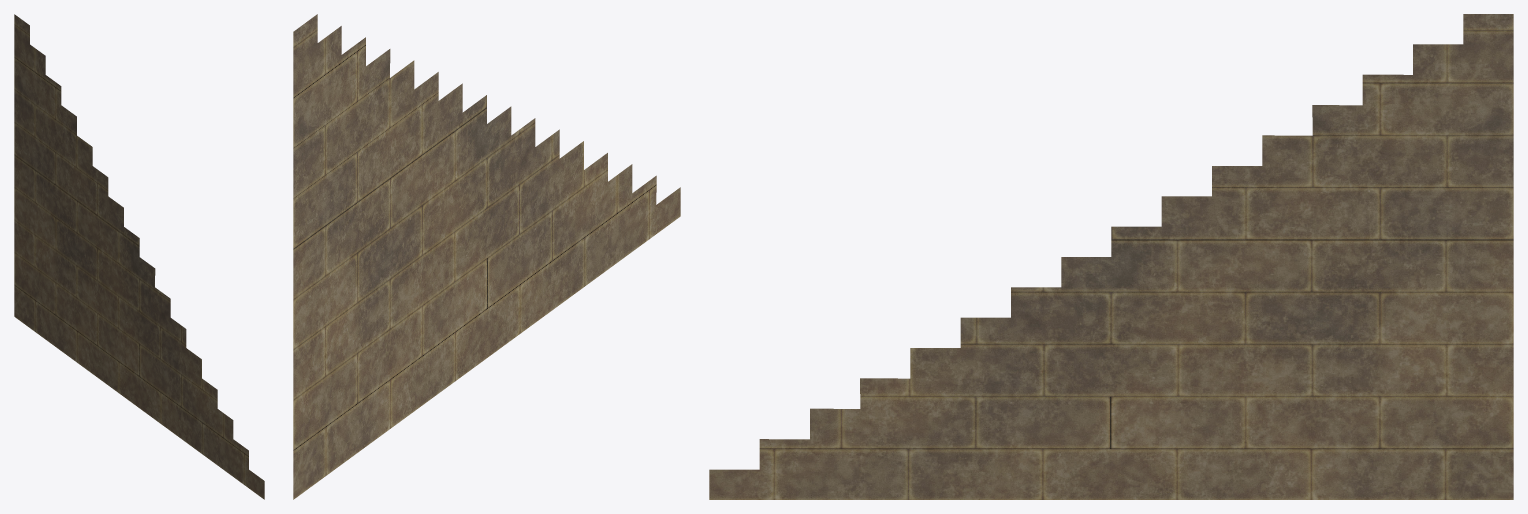
The model's file is stairs_4m_blend.fbx.
3 views of the same model, side by side, from view 1: azimuth 30°, elevation 25°; view 2: azimuth 150°, elevation 25°; view 3: azimuth 270°, elevation 25° (orthographic). The views are drawn at different scales.
Visible parts, largest first — view 1: wall_stairs_deco; view 2: wall_stairs_deco; view 3: wall_stairs_deco.
Part boxes in pixels (x1=…): wall_stairs_deco: x1=14, y1=14, x2=264, y2=499; wall_stairs_deco: x1=293, y1=14, x2=680, y2=499; wall_stairs_deco: x1=709, y1=14, x2=1513, y2=499.
Size of the model in its own units: 0 by 400 by 600.
1 material, 1 textured.
